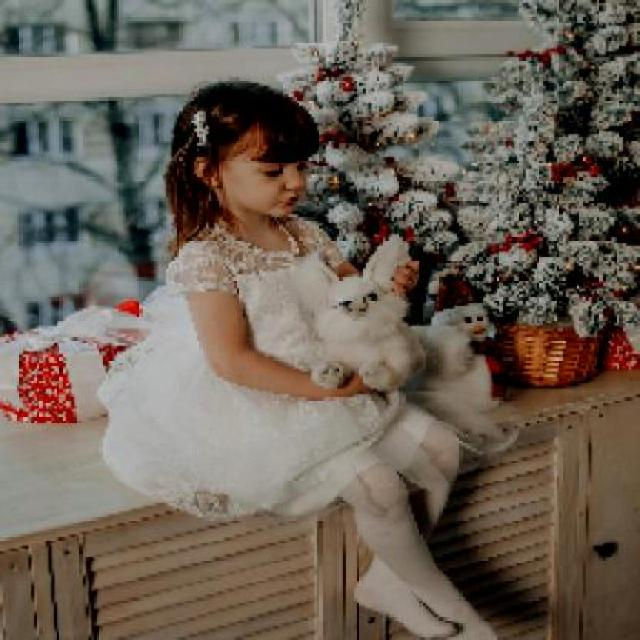child: (91, 77, 500, 637)
